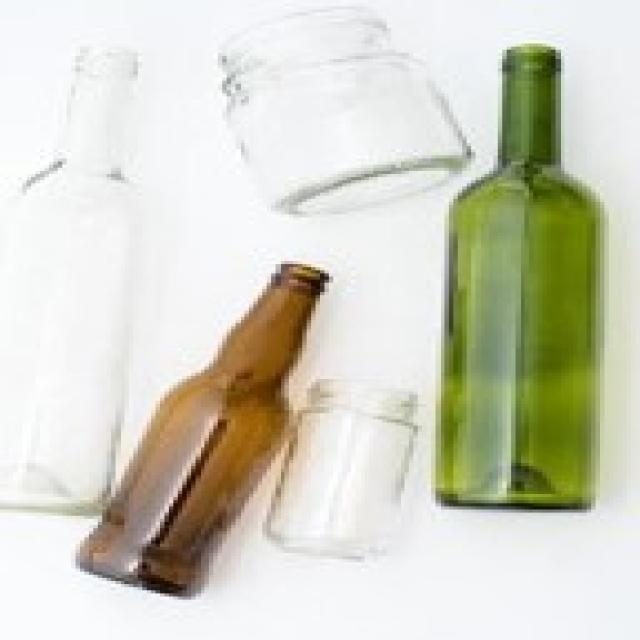electronic: (87, 264, 338, 606), (433, 42, 605, 520), (205, 15, 480, 218), (262, 374, 422, 564)
